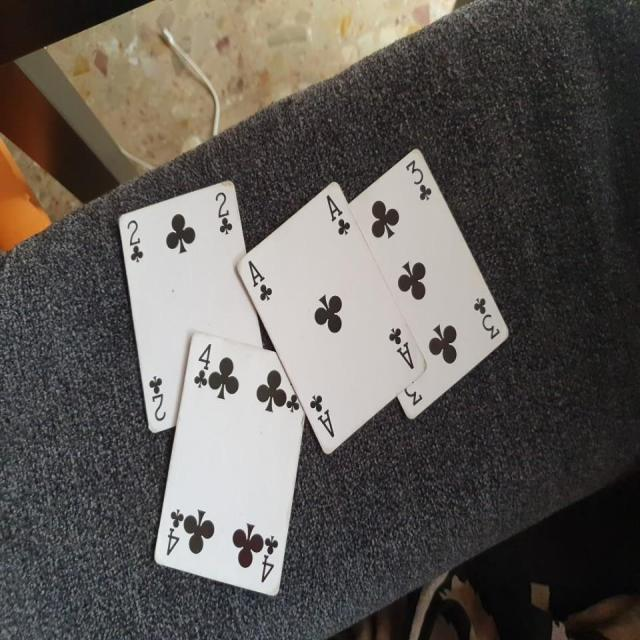2 Trefoils: (119, 173, 262, 434)
3 Trefoils: (347, 146, 510, 421)
4 Trefoils: (153, 331, 307, 598)
A Trefoils: (238, 177, 428, 454)
